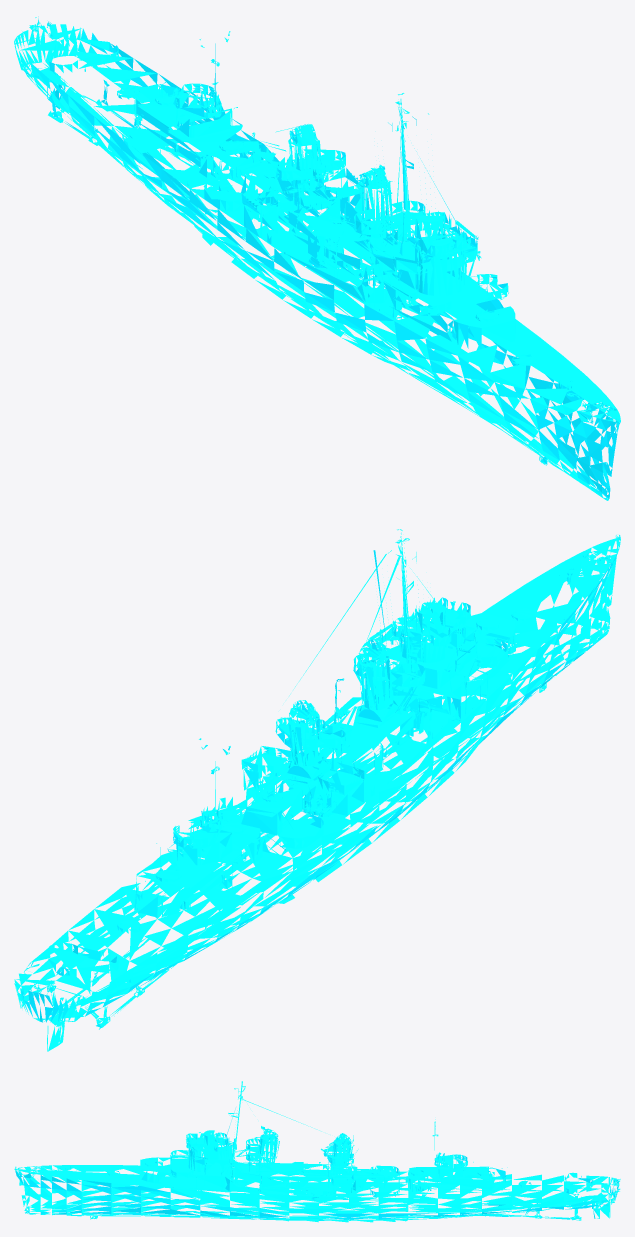
File: Fletcher.glb
3 renders of one model, top to bottom at view 1: azimuth 30°, elevation 25°; view 2: azimuth 150°, elevation 25°; view 3: azimuth 270°, elevation 25°, orthographic. The views are drawn at different scales.
Size of the model in its own units: 0.8001 by 1.92 by 7.67.
